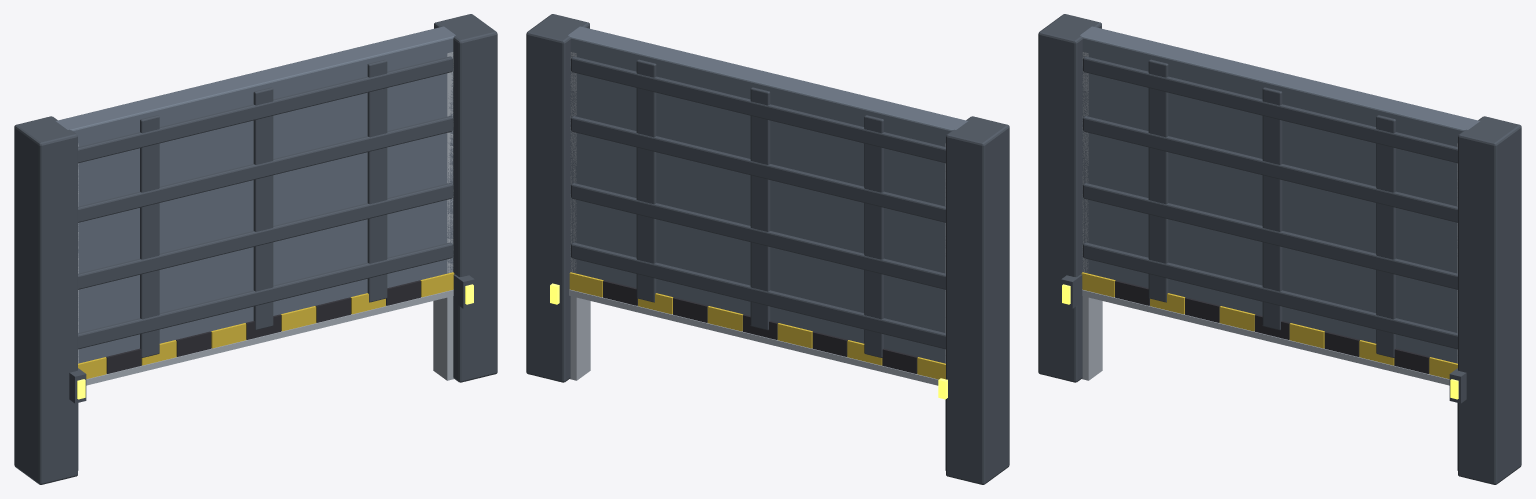
Rendered from compuerta_deslizamiento.glb.
The picture shows the model from 3 angles, left to right: view 1: azimuth 30°, elevation 25°; view 2: azimuth 150°, elevation 25°; view 3: azimuth 330°, elevation 25°; orthographic projection.
Visible parts, largest first — view 1: Compuerta_Nucleo, Columna_-2.95, Columna_2.95, Refuerzo_1.75, Refuerzo_2.55, Refuerzo_4.25, Refuerzo_3.45, VigaVert_1.6, VigaVert_0.0, VigaVert_-1.6, Riel_2.95, Borde_Inf (+8 smaller); view 2: Compuerta_Nucleo, Columna_-2.95, Columna_2.95, Refuerzo_1.75, Refuerzo_2.55, Refuerzo_4.25, Refuerzo_3.45, VigaVert_1.6, VigaVert_0.0, VigaVert_-1.6, Borde_Inf, Riel_2.95 (+8 smaller); view 3: Compuerta_Nucleo, Columna_2.95, Columna_-2.95, Refuerzo_1.75, Refuerzo_2.55, Refuerzo_4.25, Refuerzo_3.45, VigaVert_-1.6, VigaVert_0.0, VigaVert_1.6, Borde_Inf, Riel_-2.95 (+8 smaller).
Boxes of the visible parts, x1,y1,x2,y2 form: Compuerta_Nucleo: (56, 26, 455, 363); Columna_-2.95: (14, 116, 77, 484); Columna_2.95: (434, 14, 497, 382); Refuerzo_1.75: (78, 242, 452, 349); Refuerzo_2.55: (78, 183, 452, 289); Refuerzo_4.25: (78, 56, 452, 163); Refuerzo_3.45: (78, 116, 452, 222); VigaVert_1.6: (367, 59, 387, 302); VigaVert_0.0: (253, 87, 273, 330); VigaVert_-1.6: (140, 115, 159, 357); Riel_2.95: (433, 52, 453, 380); Borde_Inf: (86, 289, 453, 385); Compuerta_Nucleo: (568, 26, 967, 363); Columna_-2.95: (946, 116, 1009, 484); Columna_2.95: (526, 14, 589, 382); Refuerzo_1.75: (571, 242, 945, 349); Refuerzo_2.55: (571, 183, 945, 289); Refuerzo_4.25: (571, 56, 945, 163); Refuerzo_3.45: (571, 116, 945, 222); VigaVert_1.6: (636, 59, 656, 302); VigaVert_0.0: (750, 87, 770, 330); VigaVert_-1.6: (864, 115, 883, 357); Borde_Inf: (569, 289, 938, 385); Riel_2.95: (570, 52, 590, 380); Compuerta_Nucleo: (1080, 26, 1479, 363); Columna_2.95: (1458, 116, 1521, 484); Columna_-2.95: (1038, 14, 1101, 382); Refuerzo_1.75: (1083, 242, 1457, 349); Refuerzo_2.55: (1083, 183, 1457, 289); Refuerzo_4.25: (1083, 56, 1457, 163); Refuerzo_3.45: (1083, 116, 1457, 222); VigaVert_-1.6: (1148, 59, 1168, 302); VigaVert_0.0: (1262, 87, 1282, 330); VigaVert_1.6: (1376, 115, 1395, 357); Borde_Inf: (1082, 289, 1449, 385); Riel_-2.95: (1082, 52, 1102, 380).
Size of the model in its own units: 6.45 by 4.6 by 0.98.
